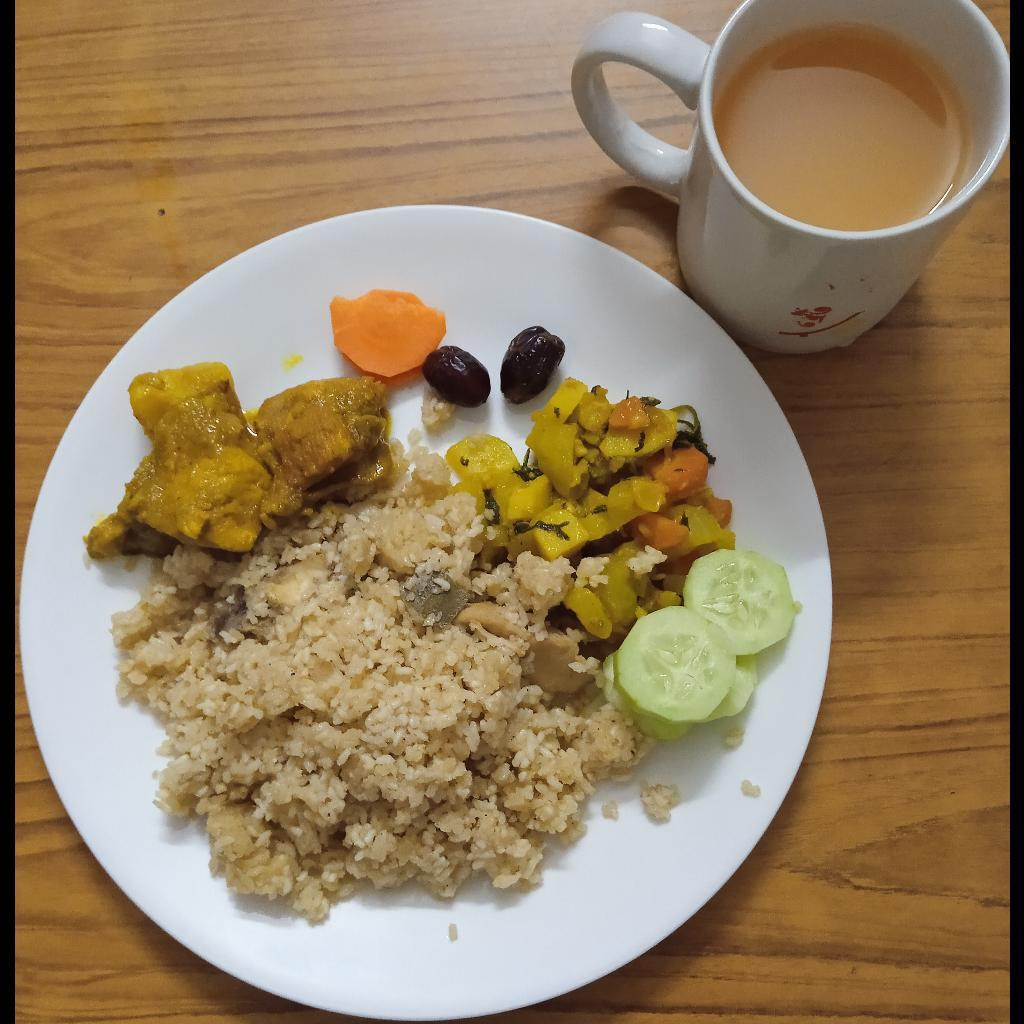biriyani: (109, 436, 656, 921), (420, 387, 454, 432)
carrot: (329, 289, 446, 386)
chicken: (85, 360, 392, 559)
cucumber: (603, 550, 797, 742)
dates: (499, 325, 565, 405), (424, 344, 491, 408)
juice: (712, 26, 966, 231)
vegetable: (445, 377, 735, 637)
